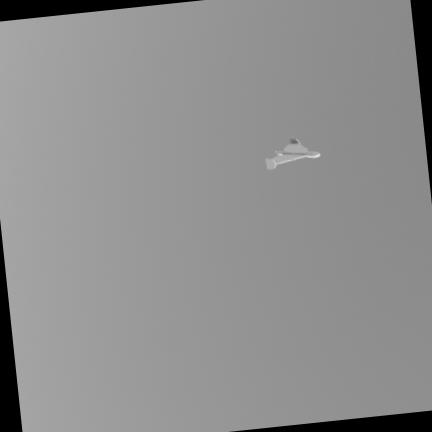Shahed: (264, 138, 319, 170)
